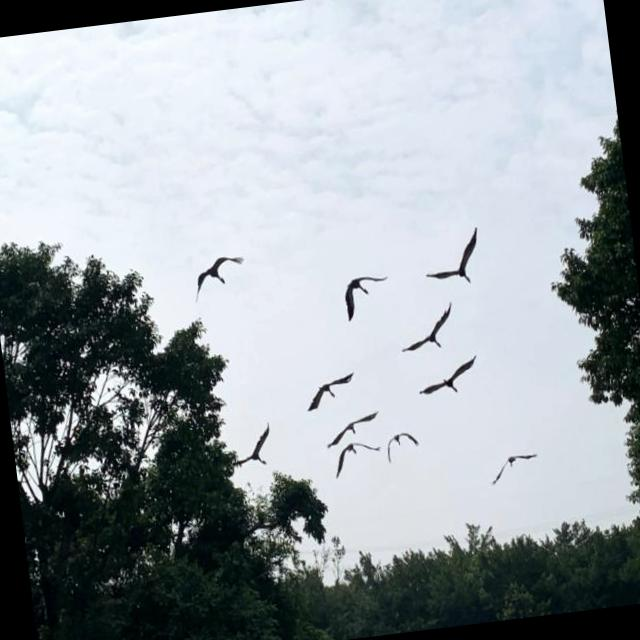bird: (419, 222, 492, 294), (412, 352, 484, 408), (326, 268, 397, 324), (396, 301, 462, 358), (182, 251, 254, 302), (300, 366, 361, 412), (227, 420, 279, 472), (483, 442, 542, 486), (320, 408, 384, 448), (327, 438, 386, 479), (381, 424, 428, 468)
